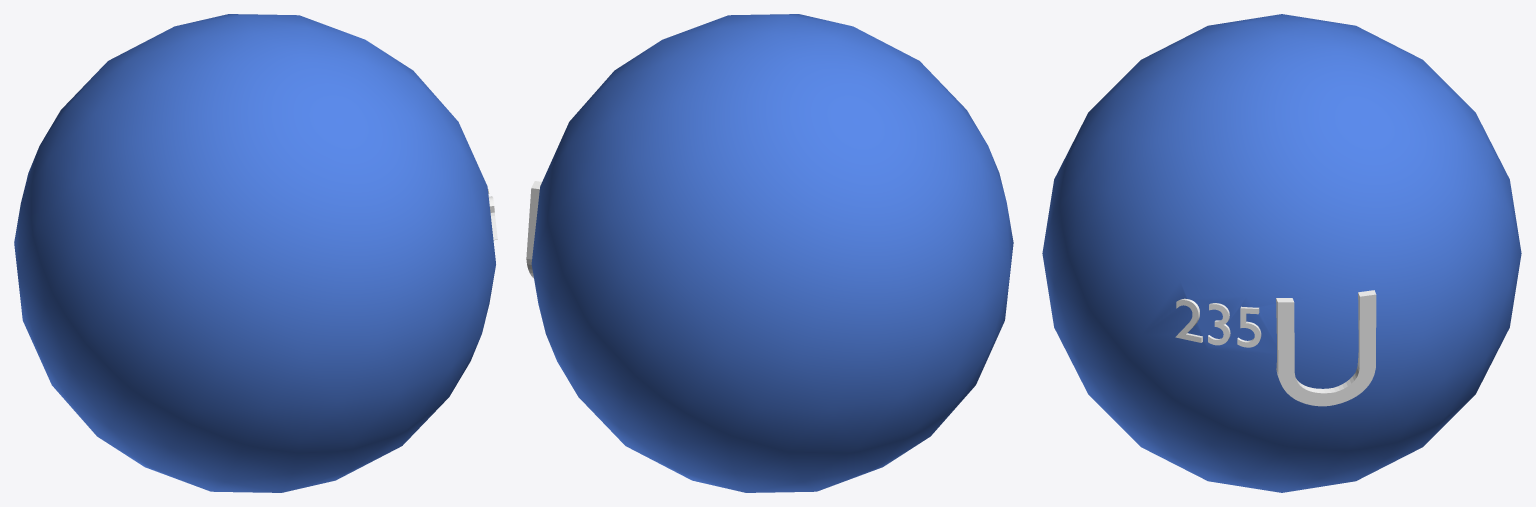
The model's file is Atom.glb.
3 renders of one model, left to right at view 1: azimuth 30°, elevation 25°; view 2: azimuth 150°, elevation 25°; view 3: azimuth 270°, elevation 25°, orthographic.
Visible parts, largest first — view 1: Text; view 2: Text; view 3: Text.
Part boxes in pixels (x1,y1,x2,y2): Text: [14, 14, 497, 492]; Text: [526, 14, 1013, 492]; Text: [1042, 14, 1521, 492].
Bounding box in the file's own units: 8.11 × 8 × 8.
